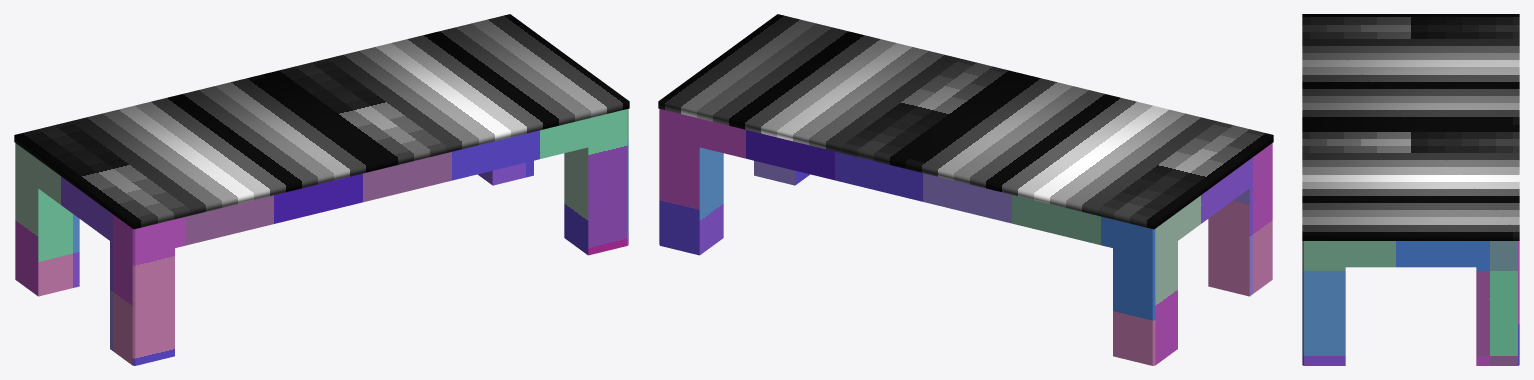
Rendered from rmk_mnc_tableM01_jwl.dae.
3 renders of one model, left to right at view 1: azimuth 30°, elevation 25°; view 2: azimuth 150°, elevation 25°; view 3: azimuth 270°, elevation 25°, orthographic. The views are drawn at different scales.
Parts seen in each view (by area): view 1: rmk_mnc_tableM01_jwl; view 2: rmk_mnc_tableM01_jwl; view 3: rmk_mnc_tableM01_jwl.
Part boxes in pixels (x1,y1,x2,y2): rmk_mnc_tableM01_jwl: [14, 14, 629, 365]; rmk_mnc_tableM01_jwl: [658, 14, 1273, 365]; rmk_mnc_tableM01_jwl: [1302, 14, 1519, 365].
Bounding box in the file's own units: 57.6 × 16 × 24.
Materials: 2 (2 with a texture image).
